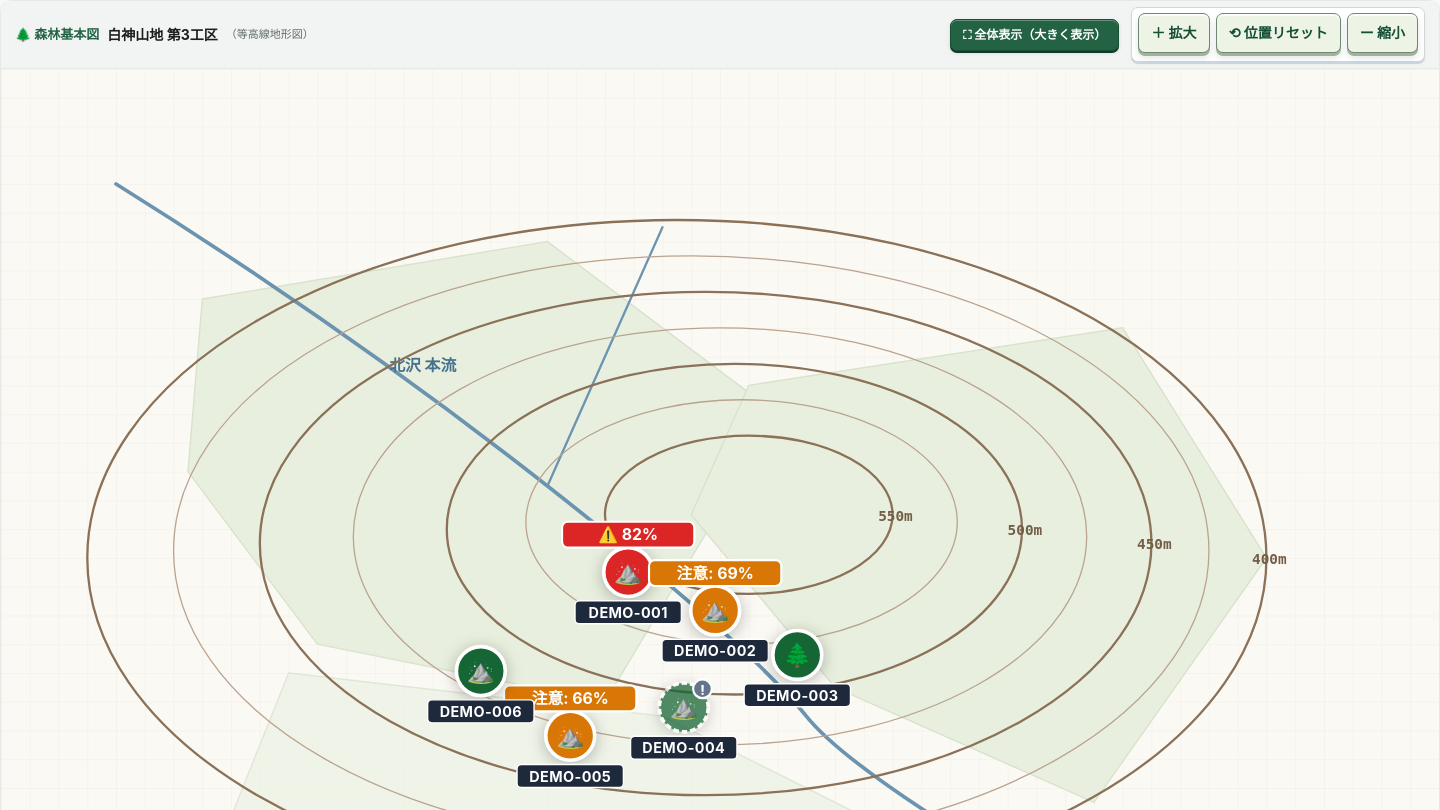
Test case: OfflineMountainMap › 「全体表示」を押すと画面いっぱいに広がり、「地図の拡大表示を閉じる」で戻る (Issue #12)
Click the button "⛶ 全体表示（大きく表示）": (1035, 34) [950,18,1119,50]
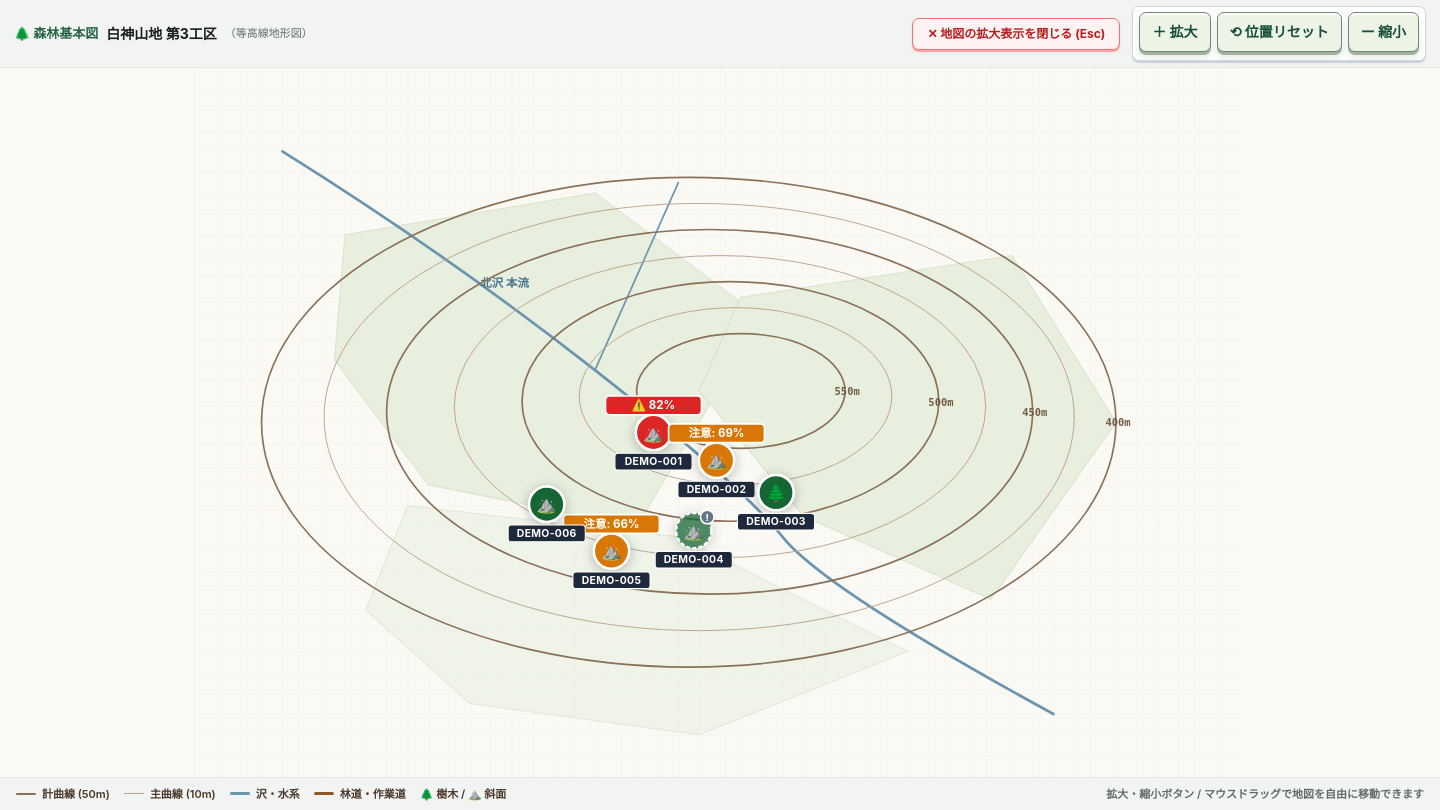
Now the button "✕ 地図の拡大表示を閉じる (Esc)" is shown
Note: 閉じるボタンをクリックすると通常表示に戻ること
Click the button "✕ 地図の拡大表示を閉じる (Esc)": (1016, 34) [912,18,1120,50]
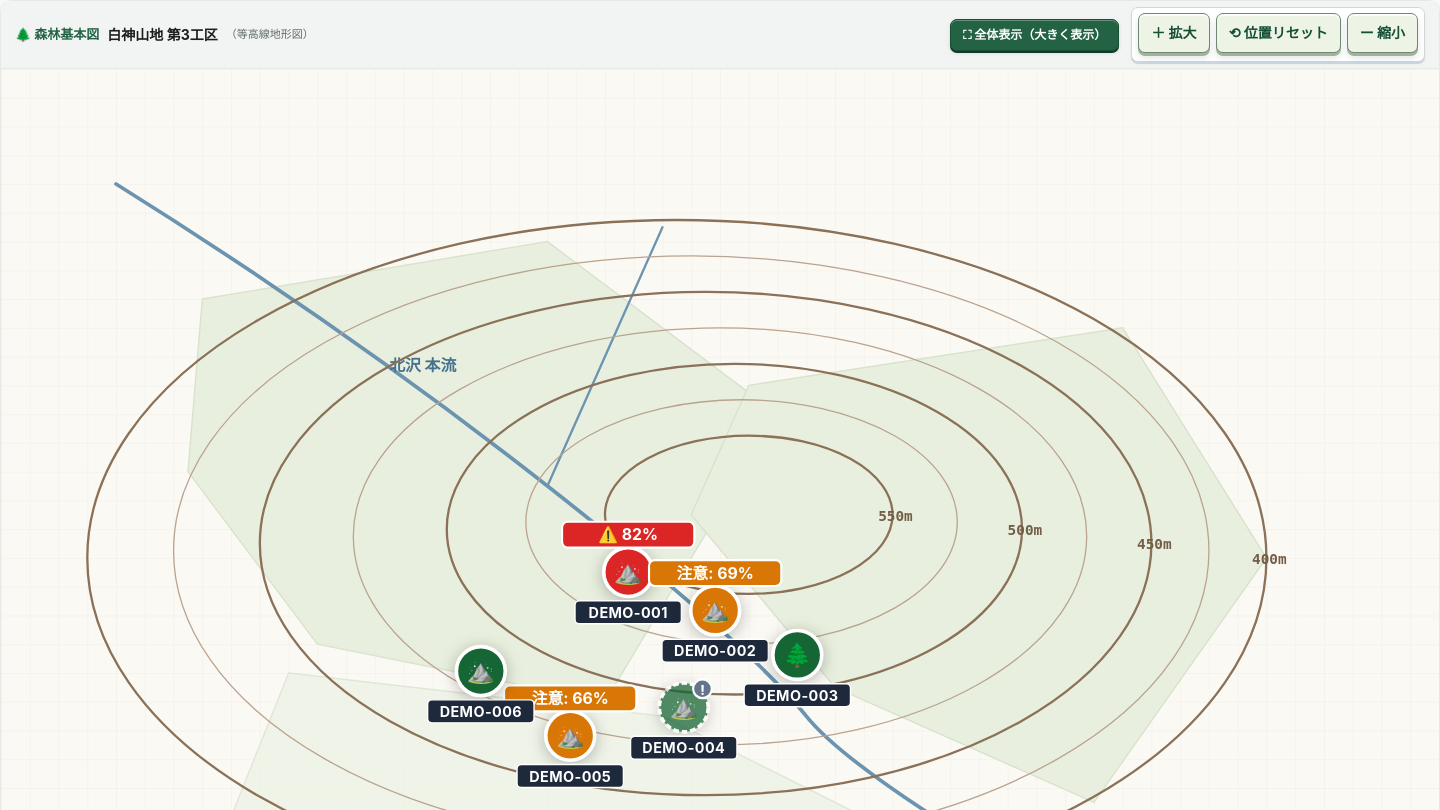
Now the button "⛶ 全体表示（大きく表示）" is shown, box [950,18,1119,50]
